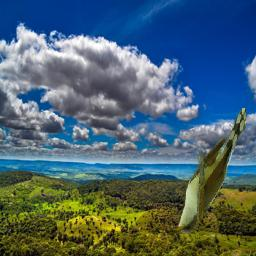Cuckoo: (174, 108, 247, 234)
